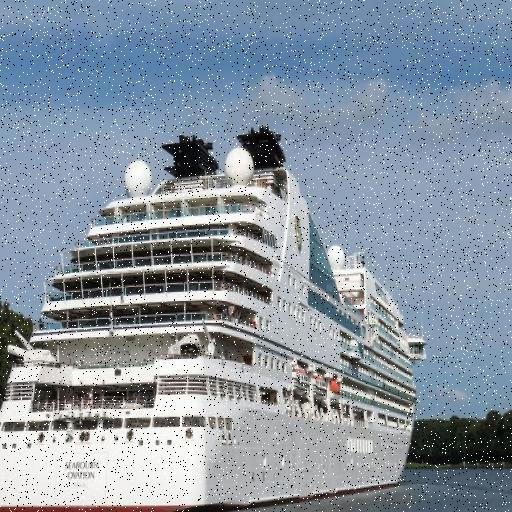cruises: (1, 120, 431, 512)
